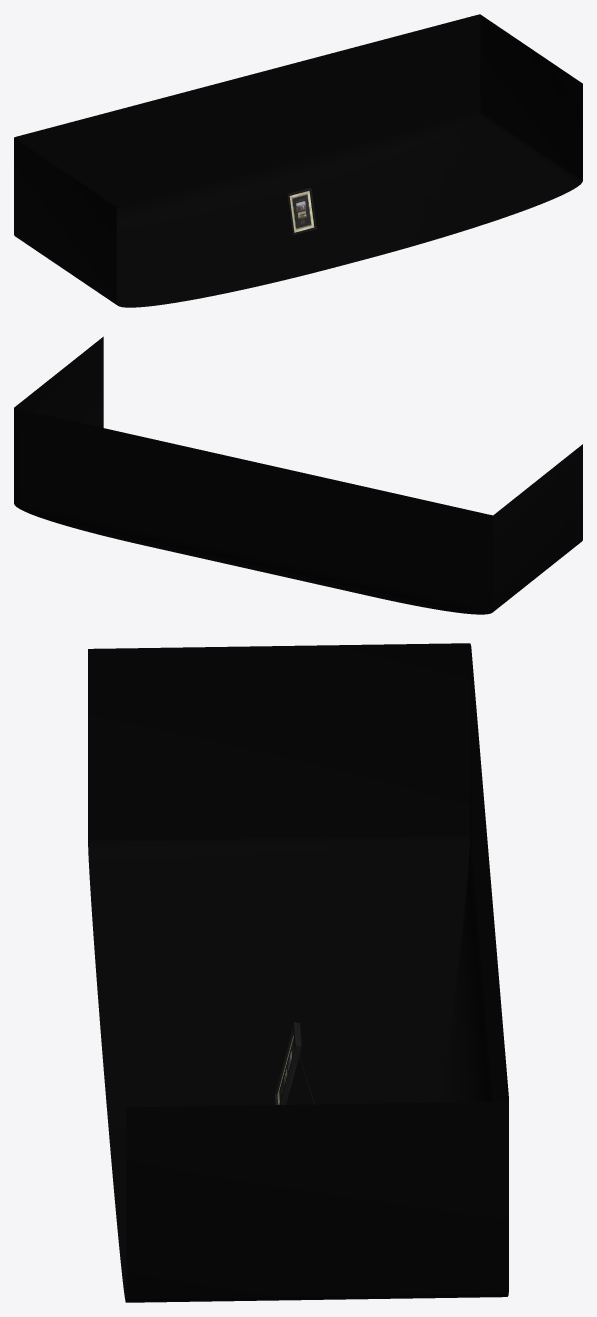
The model's file is portaretratos2.glb.
The picture shows the model from 3 angles, top to bottom: view 1: azimuth 30°, elevation 25°; view 2: azimuth 150°, elevation 25°; view 3: azimuth 270°, elevation 25°; orthographic projection. The views are drawn at different scales.
Parts seen in each view (by area): view 1: Cubo, portada, estructura; view 2: Cubo; view 3: Cubo, estructura.
Part boxes in pixels (x1,y1,x2,y2): Cubo: (14,14,582,307); portada: (289,191,314,232); estructura: (286,188,316,235); Cubo: (14,336,582,614); Cubo: (88,643,508,1302); estructura: (274,1022,315,1104).
Bounding box in the file's own units: 22.59 × 5.3 × 8.66.
4 materials, 3 textured.
